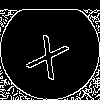X: (25, 25, 76, 81)
